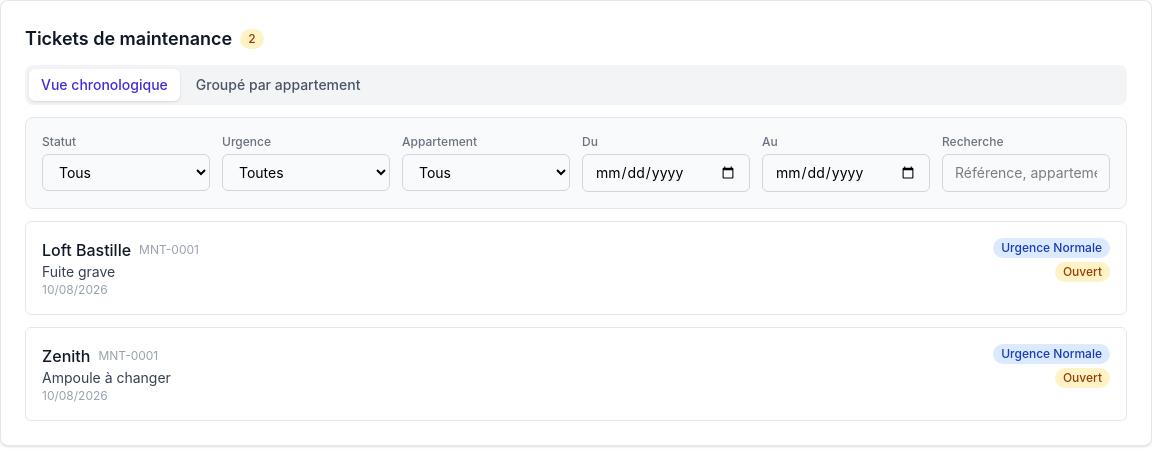
Test: TicketsMaintenanceSection › filtre les tickets par appartement (liste complète, pas seulement les tickets visibles)
expect the text "Fuite grave" is shown: met, box x1=42 y1=263 x2=115 y2=280
Select "Zenith" in the dropdown labelled "Appartement" at (486, 172), box x1=402 y1=154 x2=570 y2=191
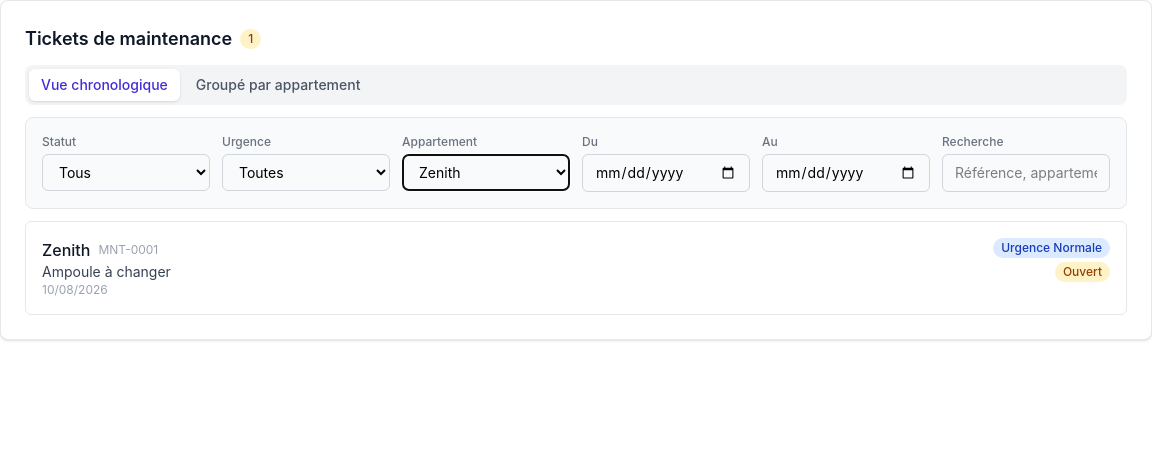
expect the text "Ampoule à changer" is shown: met, box x1=42 y1=262 x2=171 y2=282
expect the button "Fuite grave" is gone: met
